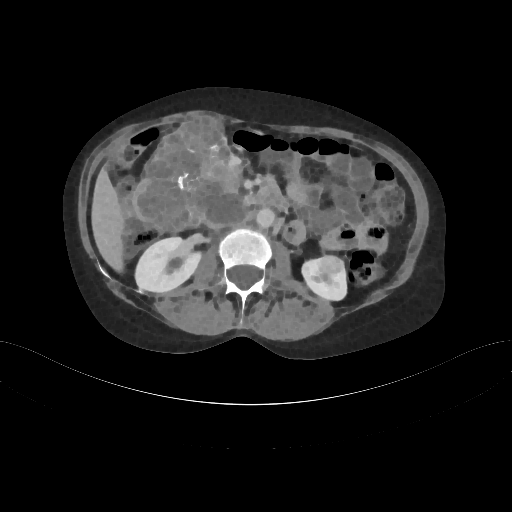Lesion: (315, 255, 345, 277)
